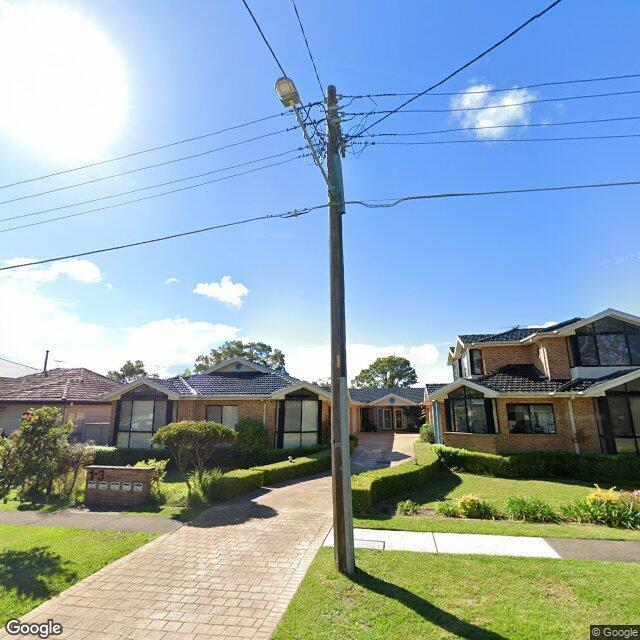crossarm: (325, 110, 346, 158)
streetlight: (274, 75, 339, 198)
timber-pole: (325, 84, 356, 576), (42, 349, 50, 374)
